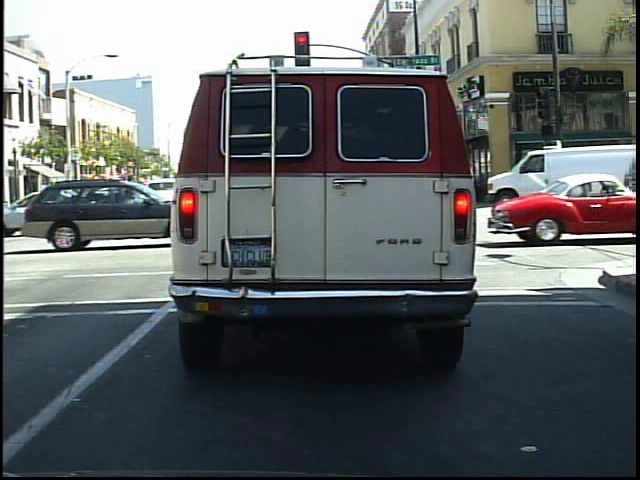person: (585, 142, 609, 210), (538, 152, 562, 210), (514, 155, 535, 207)
